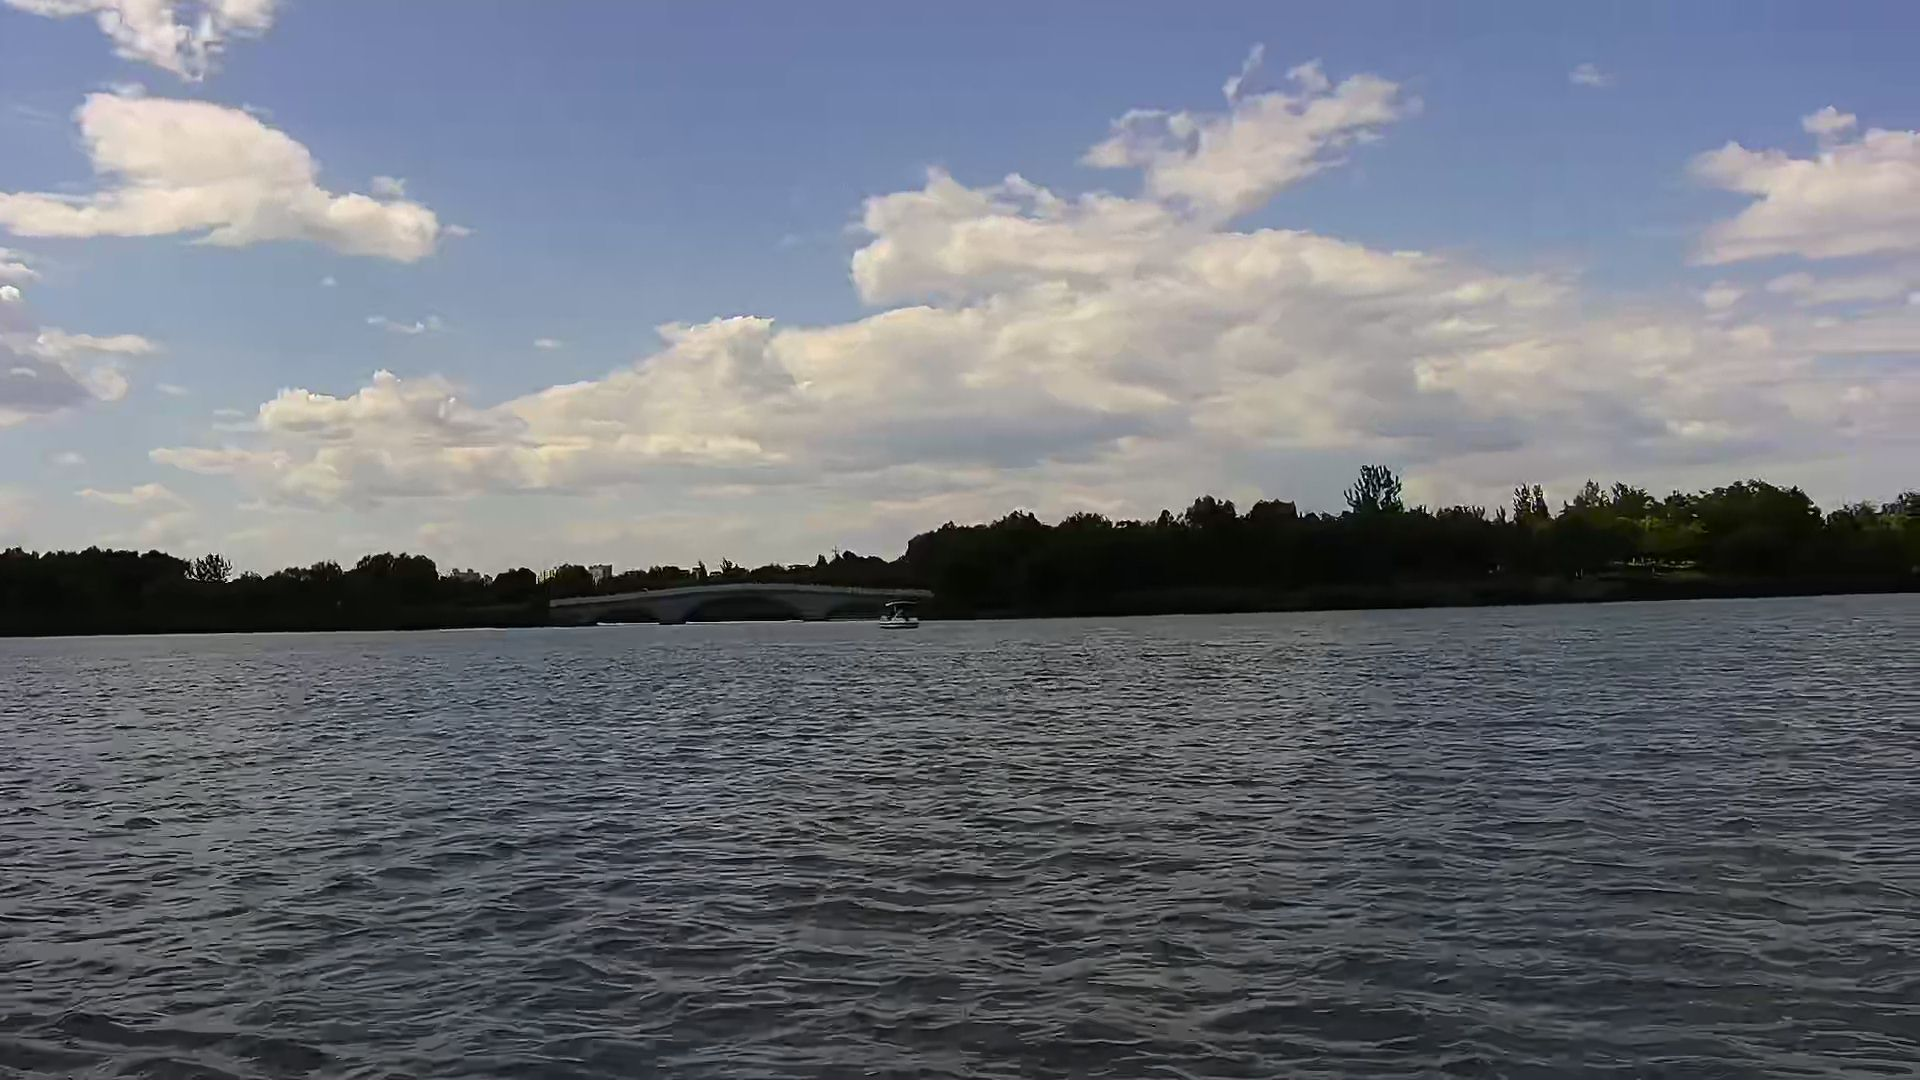boat: (880, 597, 918, 629)
bridge: (547, 583, 935, 625)
